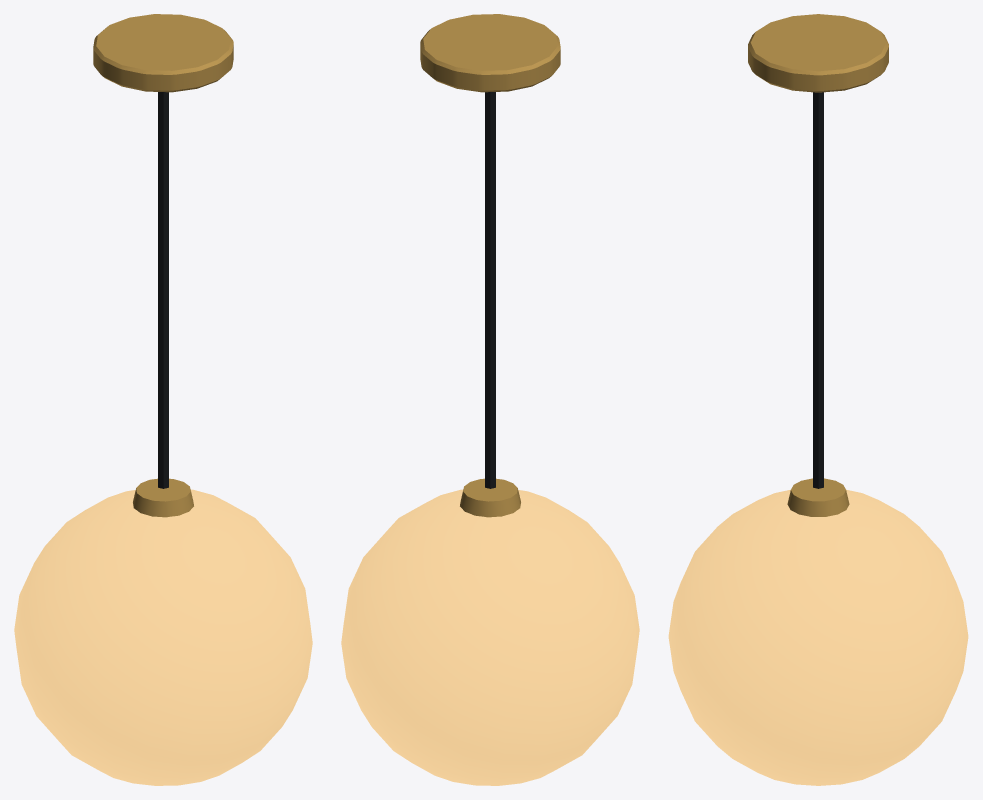
File: ceilinglight_pendant_globe.glb
3 renders of one model, left to right at view 1: azimuth 30°, elevation 25°; view 2: azimuth 150°, elevation 25°; view 3: azimuth 270°, elevation 25°, orthographic.
Visible parts, largest first — view 1: ceilinglight_pendant_globe; view 2: ceilinglight_pendant_globe; view 3: ceilinglight_pendant_globe.
Part boxes in pixels (bbox=[...]): ceilinglight_pendant_globe: bbox=[14, 14, 312, 785]; ceilinglight_pendant_globe: bbox=[341, 14, 639, 785]; ceilinglight_pendant_globe: bbox=[668, 14, 968, 785].
Bounding box in the file's own units: 0.38 × 1.02 × 0.38.
